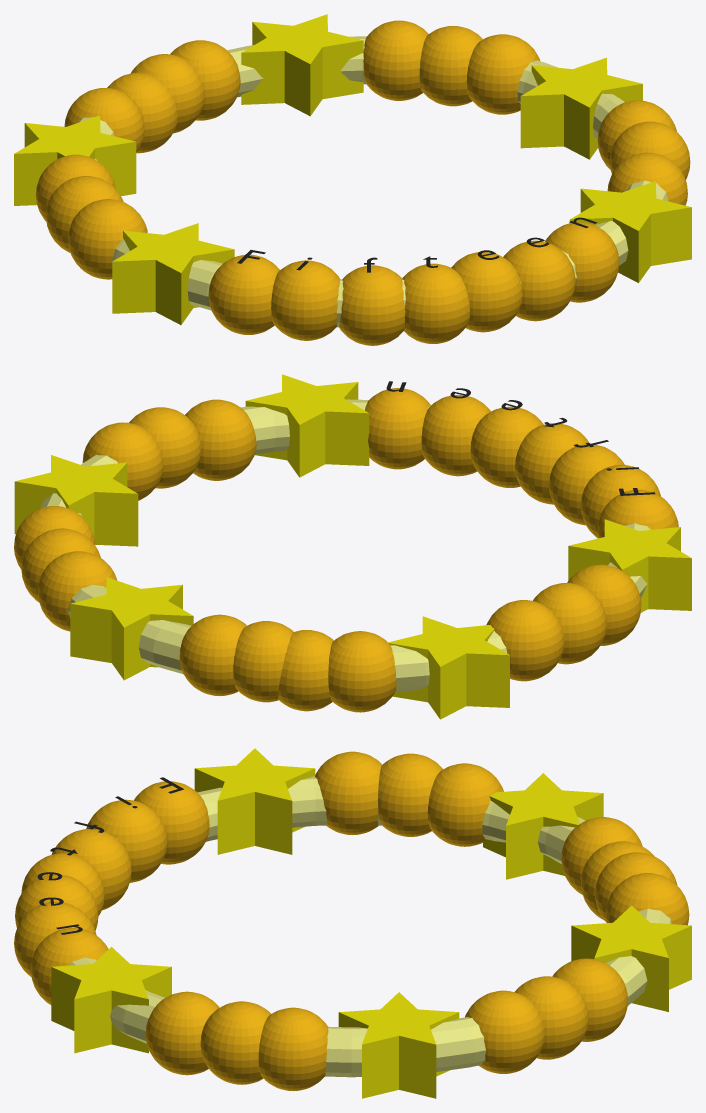
File: Fearless_Fifteen.fbx
The picture shows the model from 3 angles, top to bottom: view 1: azimuth 30°, elevation 25°; view 2: azimuth 150°, elevation 25°; view 3: azimuth 270°, elevation 25°; orthographic projection. The views are drawn at different scales.
Visible parts, largest first — view 1: Star.062, Star.070, Star.067, Star.061, Star.069, Torus.019, Sphere.371, Sphere.369, Sphere.370, Sphere.372, Sphere.378, Sphere.380 (+14 smaller); view 2: Star.061, Star.069, Star.062, Star.067, Torus.019, Star.070, Sphere.376, Sphere.367, Sphere.383, Sphere.366, Sphere.365, Sphere.381 (+14 smaller); view 3: Torus.019, Star.061, Star.070, Star.067, Star.062, Star.069, Sphere.382, Sphere.380, Sphere.367, Sphere.377, Sphere.375, Sphere.383 (+14 smaller).
Boxes of the visible parts, box(x1,y1,x2,y2) form: Star.062: box(241, 14, 363, 116); Star.070: box(112, 223, 234, 324); Star.067: box(520, 57, 642, 159); Star.061: box(569, 181, 691, 282); Star.069: box(14, 116, 136, 205); Torus.019: box(76, 36, 668, 327); Sphere.371: box(271, 260, 340, 340); Sphere.369: box(402, 263, 469, 343); Sphere.370: box(339, 265, 404, 345); Sphere.372: box(208, 254, 279, 334); Sphere.378: box(363, 20, 428, 100); Sphere.380: box(466, 34, 540, 114); Star.061: box(245, 374, 369, 477); Star.069: box(388, 616, 509, 719); Star.062: box(70, 577, 193, 680); Star.067: box(14, 455, 138, 546); Torus.019: box(40, 399, 650, 692); Star.070: box(568, 519, 691, 612); Sphere.376: box(328, 631, 396, 712); Sphere.367: box(486, 600, 564, 681); Sphere.383: box(185, 399, 256, 480); Sphere.366: box(365, 388, 430, 469); Sphere.365: box(179, 614, 246, 696); Sphere.381: box(421, 394, 490, 476); Torus.019: box(69, 776, 671, 1077); Star.061: box(51, 947, 171, 1053); Star.070: box(194, 748, 315, 854); Star.067: box(338, 992, 459, 1098); Star.062: box(571, 905, 691, 1011); Star.069: box(483, 773, 603, 879); Sphere.382: box(258, 1007, 328, 1090); Sphere.380: box(465, 990, 544, 1073); Sphere.367: box(427, 763, 503, 846); Sphere.377: box(315, 751, 382, 834); Sphere.375: box(200, 1001, 270, 1084); Sphere.383: box(145, 991, 219, 1075).
Bounding box in the file's own units: 117 × 15.79 × 114.
